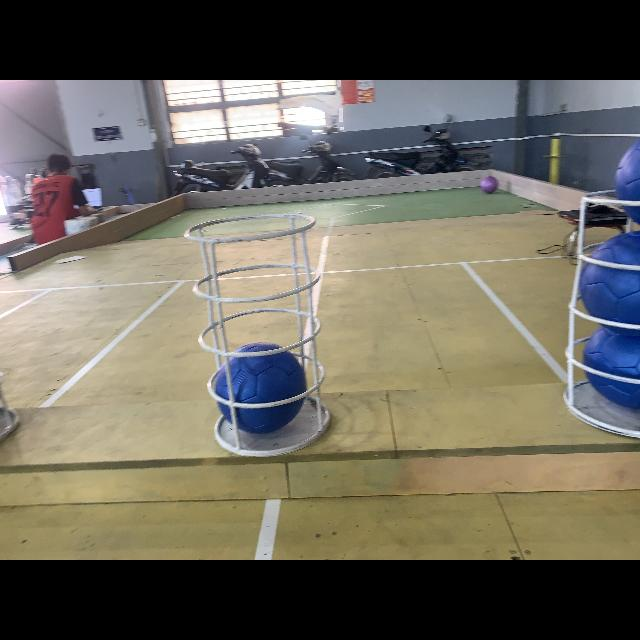B: (214, 342, 310, 433), (582, 226, 640, 326), (582, 324, 640, 412)
